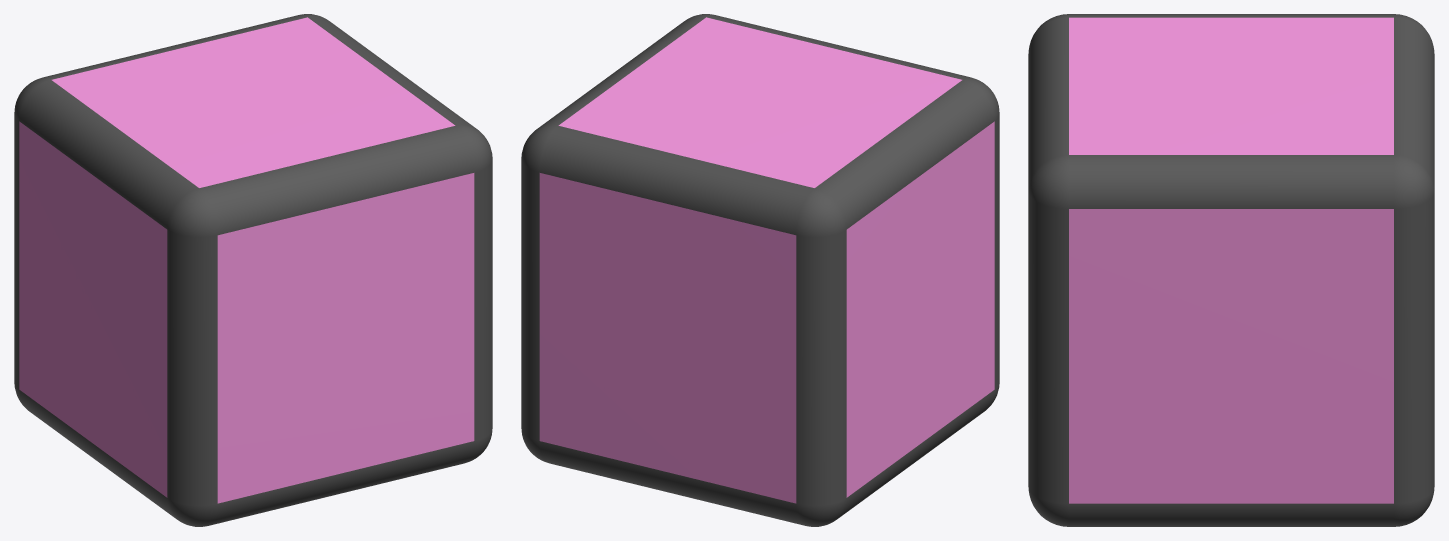
The model's file is stone7.glb.
3 renders of one model, left to right at view 1: azimuth 30°, elevation 25°; view 2: azimuth 150°, elevation 25°; view 3: azimuth 270°, elevation 25°, orthographic. The views are drawn at different scales.
Parts seen in each view (by area): view 1: Cube; view 2: Cube; view 3: Cube.
Part boxes in pixels (box(x1,y1,x2,y2)): Cube: box(14, 14, 492, 526); Cube: box(521, 14, 999, 526); Cube: box(1028, 14, 1434, 526).
Bounding box in the file's own units: 1 × 1 × 1.
